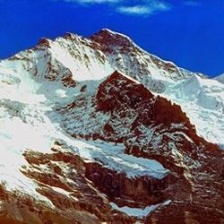neutral: (1, 10, 224, 221)
